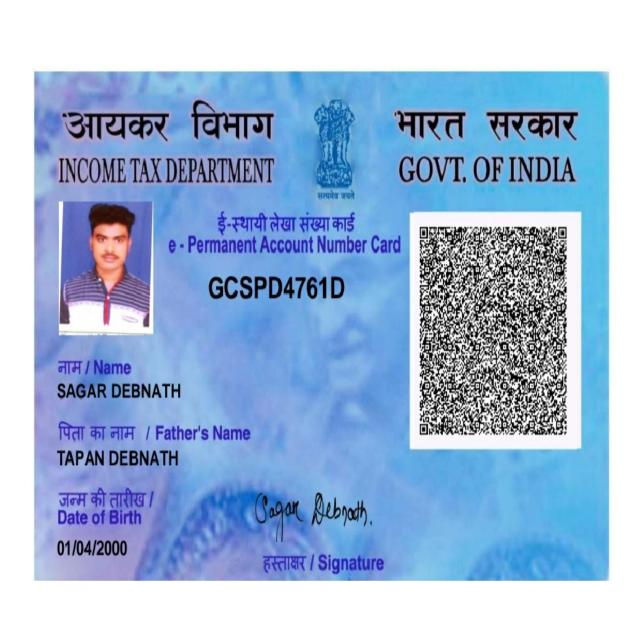pan_card: (35, 72, 603, 580)
